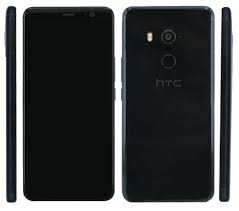htc: (119, 4, 216, 204)
